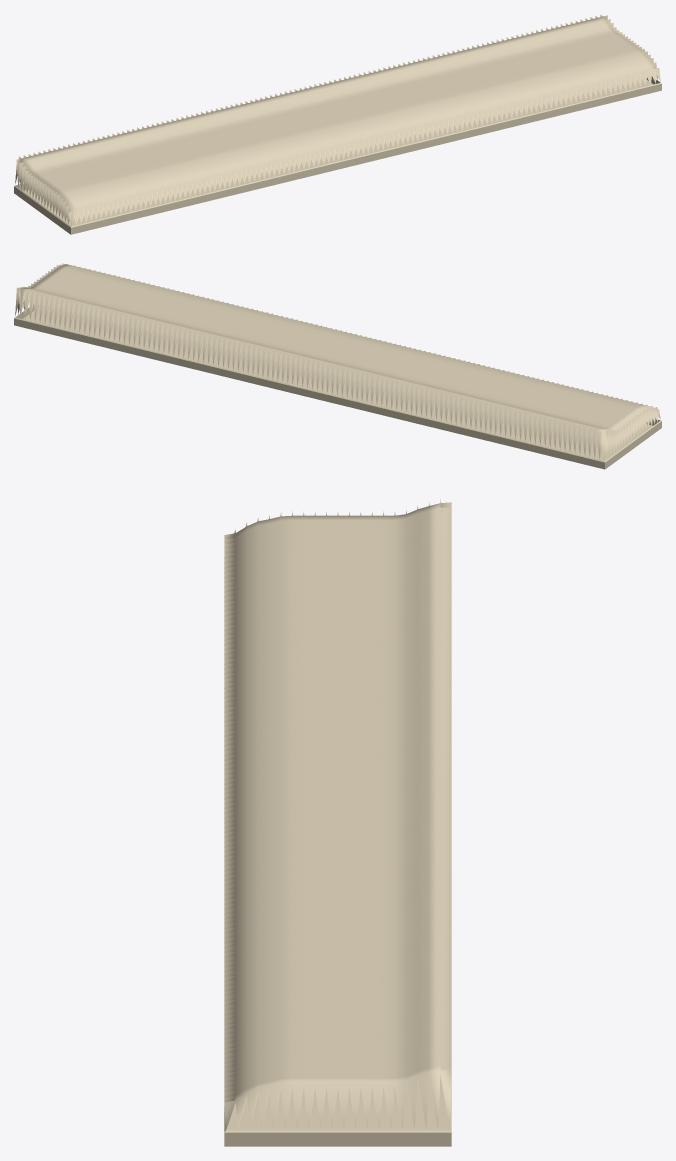
The model's file is mahsulot.glb.
The picture shows the model from 3 angles, top to bottom: view 1: azimuth 30°, elevation 25°; view 2: azimuth 150°, elevation 25°; view 3: azimuth 270°, elevation 25°; orthographic projection. The views are drawn at different scales.
Visible parts, largest first — view 1: mahsulot; view 2: mahsulot; view 3: mahsulot.
Boxes of the visible parts, bbox=[...] form: mahsulot: bbox=[14, 14, 661, 234]; mahsulot: bbox=[14, 263, 661, 469]; mahsulot: bbox=[224, 499, 451, 1146].
Size of the model in its own units: 1.2 by 0.0701 by 0.2.
